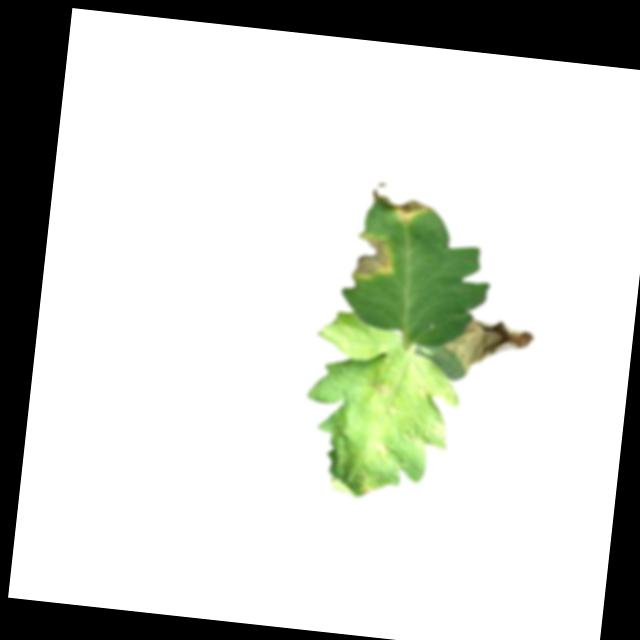Late_blight: (440, 310, 538, 382), (349, 230, 398, 285), (370, 181, 431, 224), (362, 373, 393, 400), (351, 468, 378, 497), (369, 438, 392, 464)
